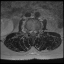CCS_normal: (32, 28, 33, 37)
LFS_normal: (35, 29, 38, 34)
LLS_normal: (34, 29, 35, 36)
RFS_normal: (28, 28, 30, 34)
RLS_normal: (30, 29, 32, 36)
